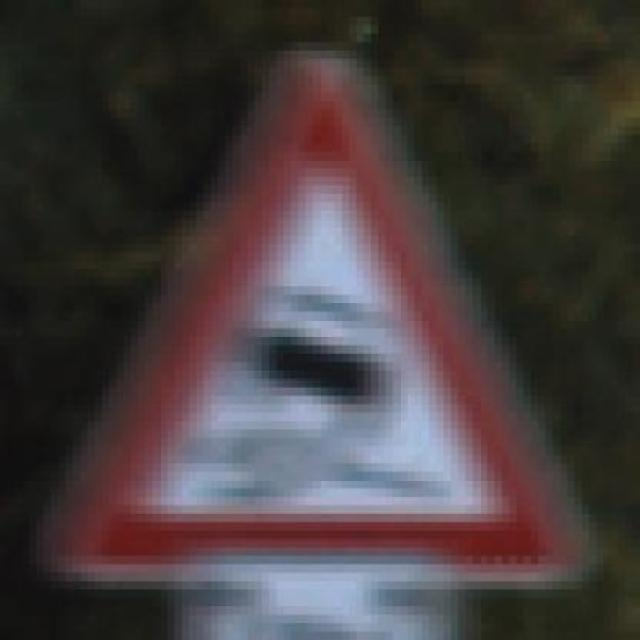Slippery Road Ahead: (43, 41, 597, 598)
